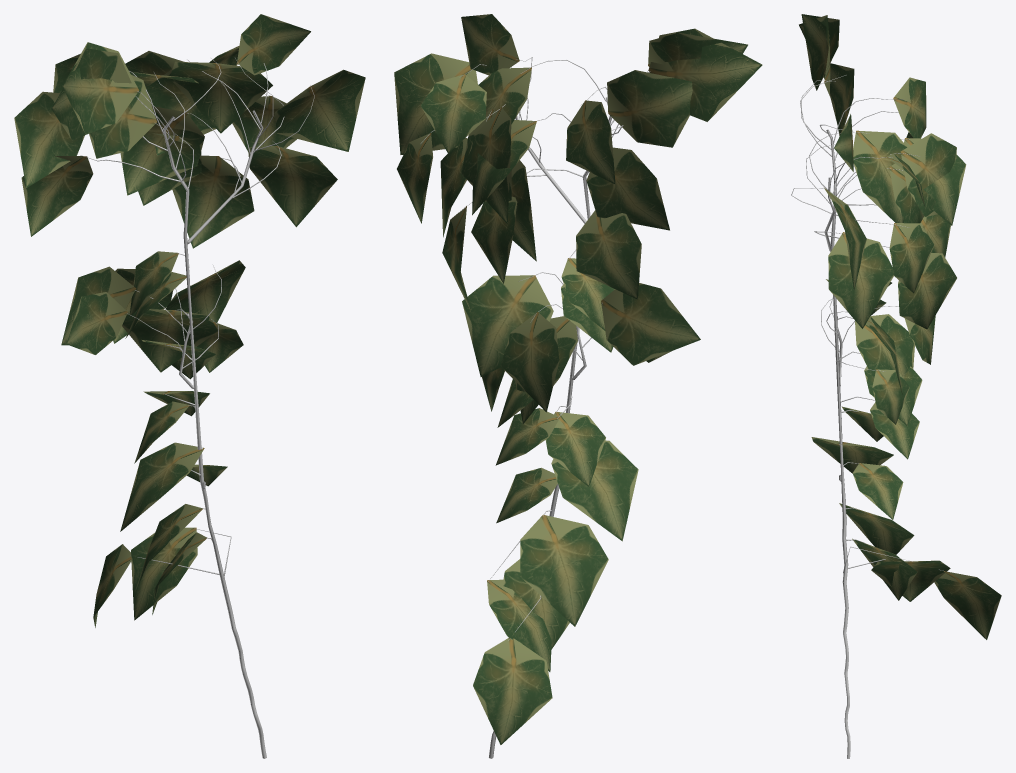
Rendered from SM_Vine02.fbx.
The picture shows the model from 3 angles, left to right: view 1: azimuth 30°, elevation 25°; view 2: azimuth 150°, elevation 25°; view 3: azimuth 270°, elevation 25°; orthographic projection. The views are drawn at different scales.
Parts seen in each view (by area): view 1: SM_Vine02_LOD0; view 2: SM_Vine02_LOD0; view 3: SM_Vine02_LOD0.
Boxes of the visible parts, x1,y1,x2,y2 form: SM_Vine02_LOD0: (14,14,365,758); SM_Vine02_LOD0: (394,14,762,758); SM_Vine02_LOD0: (791,14,1001,758).
Size of the model in its own units: 152 by 94.01 by 327.
